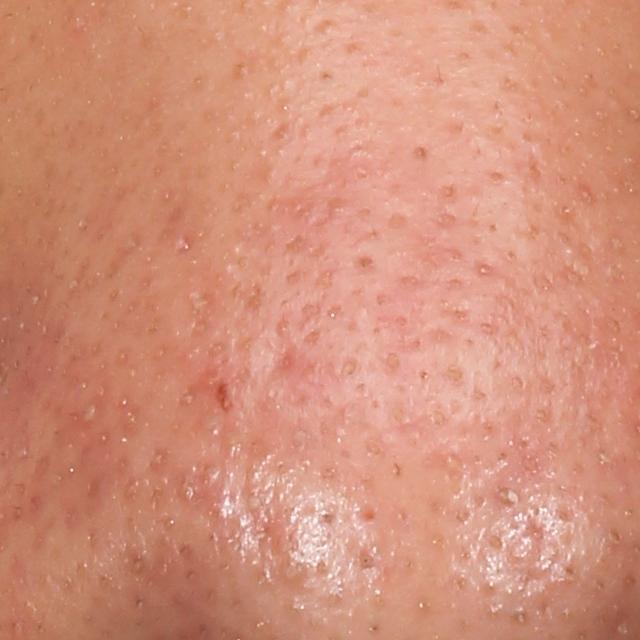comedo: (484, 480, 524, 515), (335, 356, 363, 382), (382, 347, 405, 378), (441, 363, 464, 389), (409, 143, 435, 165), (472, 258, 497, 280)
